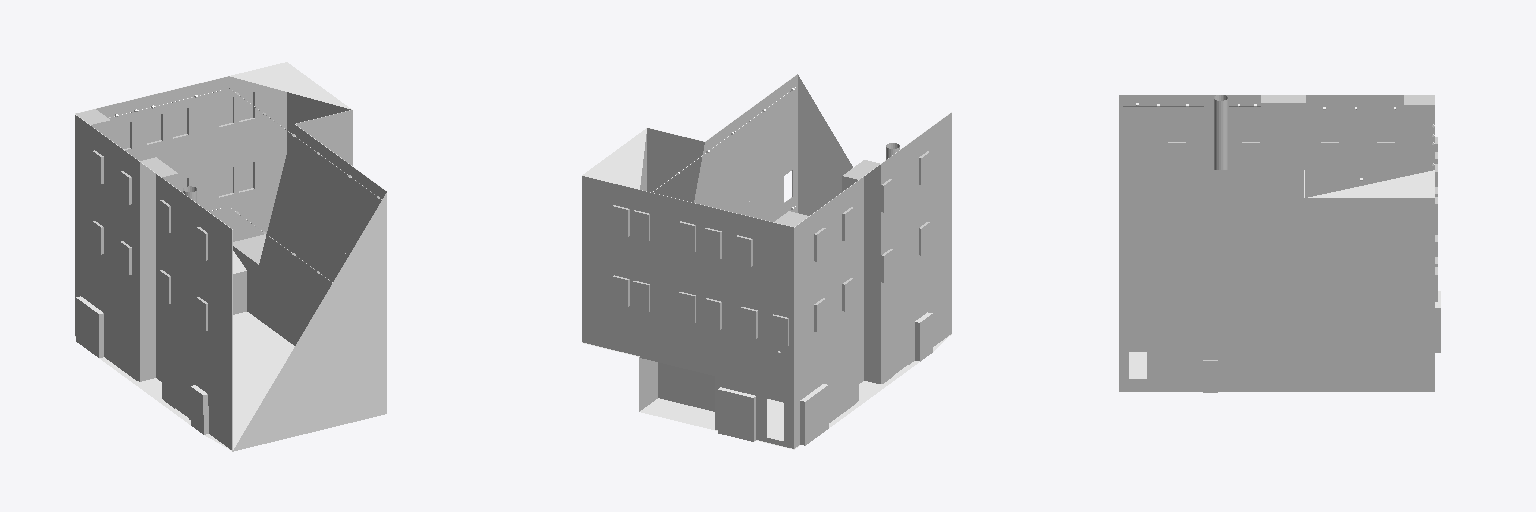
Rendered from cast_simple_2.obj.
3 views of the same model, side by side, from view 1: azimuth 30°, elevation 25°; view 2: azimuth 150°, elevation 25°; view 3: azimuth 270°, elevation 25° (orthographic).
Visible parts, largest first — view 1: Mesh39 Model; view 2: Mesh39 Model; view 3: Mesh39 Model.
Part boxes in pixels (left/top/right/bottom): Mesh39 Model: left=75, top=62, right=386, bottom=451; Mesh39 Model: left=582, top=74, right=951, bottom=449; Mesh39 Model: left=1119, top=95, right=1440, bottom=392.
Size of the model in its own units: 12.82 by 12.57 by 16.43.